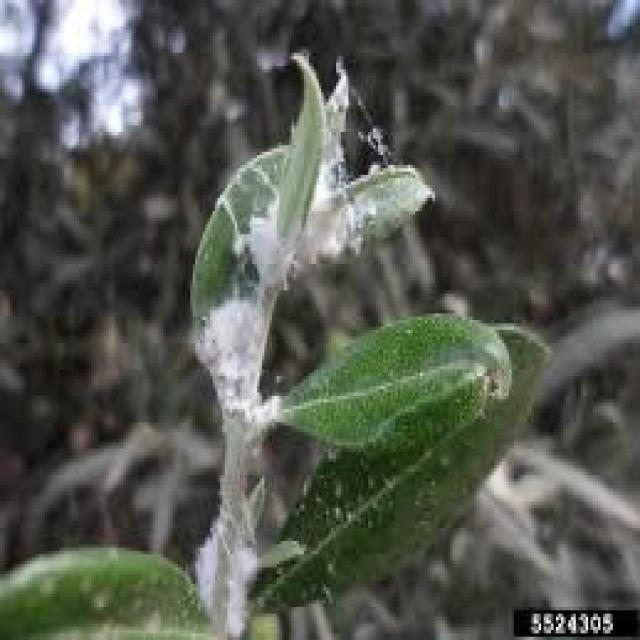Psyllid: (190, 49, 432, 449), (195, 485, 301, 637)
